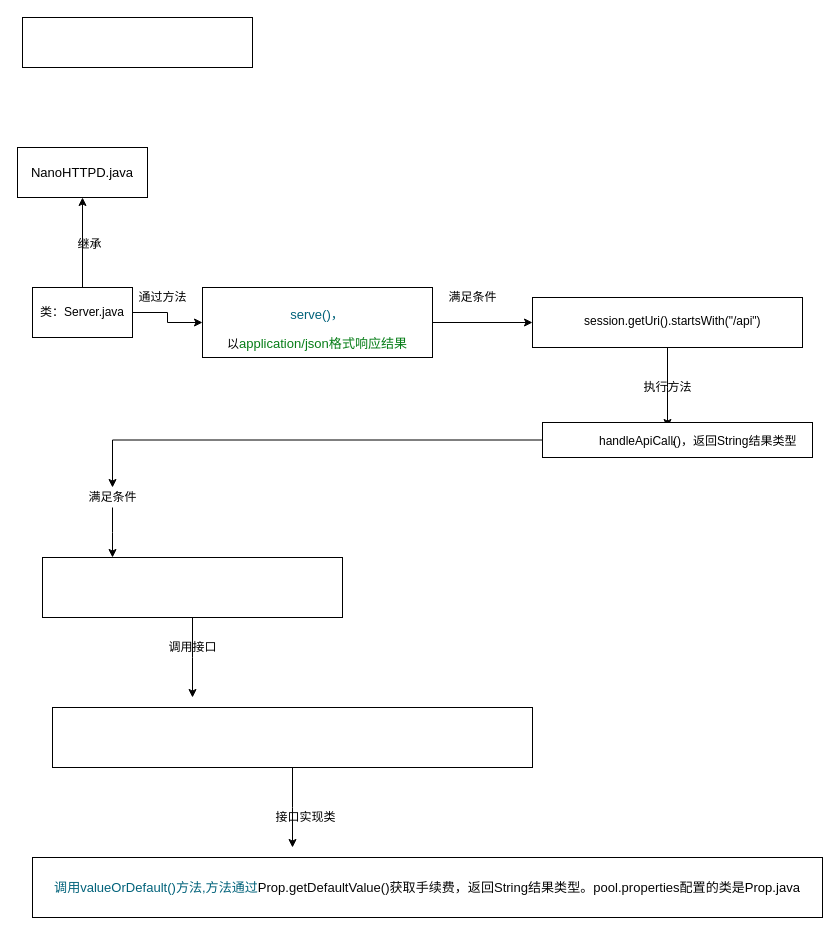
The diagram is 840 pixels wide and 935 high, and some of its shapes have lost their labels. The centre of each missing label's shape, as x and y in pixels:
poolFeePercentage(矿池收益手续费)= 0.2: (137,42)
propertyService .getFloat( Props . poolFeePercentage )，返回float结果类型: (292,737)
session.getUri().startsWith( "/api/getConfig" ): (192,587)
